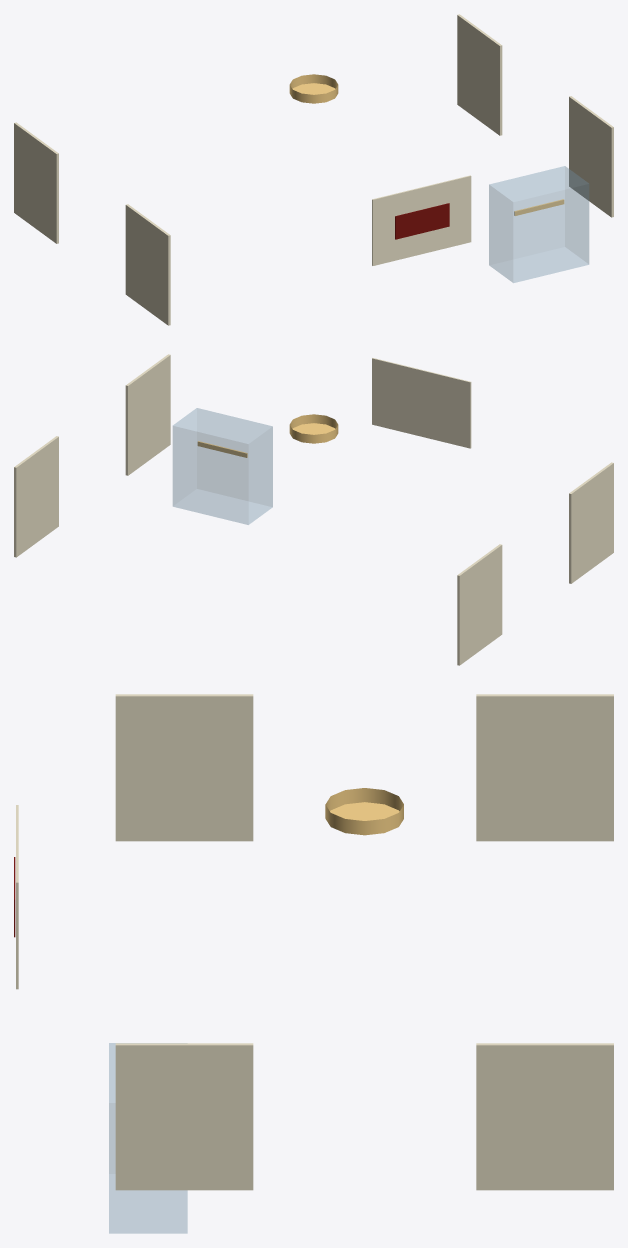
Rendered from SM_Interior_slifer_banner_room_NoCol.fbx.
3 renders of one model, top to bottom at view 1: azimuth 30°, elevation 25°; view 2: azimuth 150°, elevation 25°; view 3: azimuth 270°, elevation 25°, orthographic. The views are drawn at different scales.
Visible parts, largest first — view 1: SM_Interior_slifer_banner_room_NoCol; view 2: SM_Interior_slifer_banner_room_NoCol; view 3: SM_Interior_slifer_banner_room_NoCol.
Part boxes in pixels (x1,y1,x2,y2): SM_Interior_slifer_banner_room_NoCol: (14, 14, 613, 325); SM_Interior_slifer_banner_room_NoCol: (14, 354, 613, 665); SM_Interior_slifer_banner_room_NoCol: (14, 694, 613, 1233).
Size of the model in its own units: 6.34 by 2.31 by 4.57.
